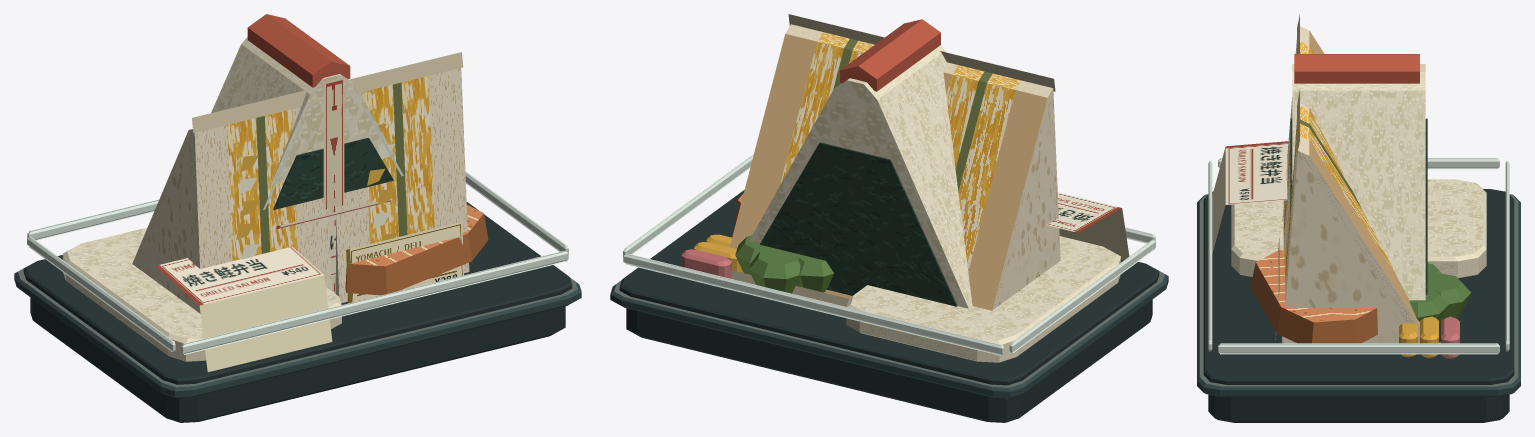
The model's file is night-fresh.glb.
The picture shows the model from 3 angles, left to right: view 1: azimuth 30°, elevation 25°; view 2: azimuth 150°, elevation 25°; view 3: azimuth 270°, elevation 25°; orthographic projection. The views are drawn at different scales.
Visible parts, largest first — view 1: product_bento, product_sandwich, product_onigiri; view 2: product_bento, product_onigiri, product_sandwich; view 3: product_bento, product_onigiri, product_sandwich.
Boxes of the visible parts, <box> form: product_bento: <box>14,171,581,422</box>; product_sandwich: <box>132,52,469,313</box>; product_onigiri: <box>211,14,403,293</box>; product_bento: <box>610,154,1168,422</box>; product_onigiri: <box>749,19,972,308</box>; product_sandwich: <box>729,14,1060,310</box>; product_bento: <box>1197,141,1520,422</box>; product_onigiri: <box>1290,54,1427,300</box>; product_sandwich: <box>1275,14,1446,343</box>.
Size of the model in its own units: 0.245 by 0.16 by 0.17.
1 material, 1 textured.
